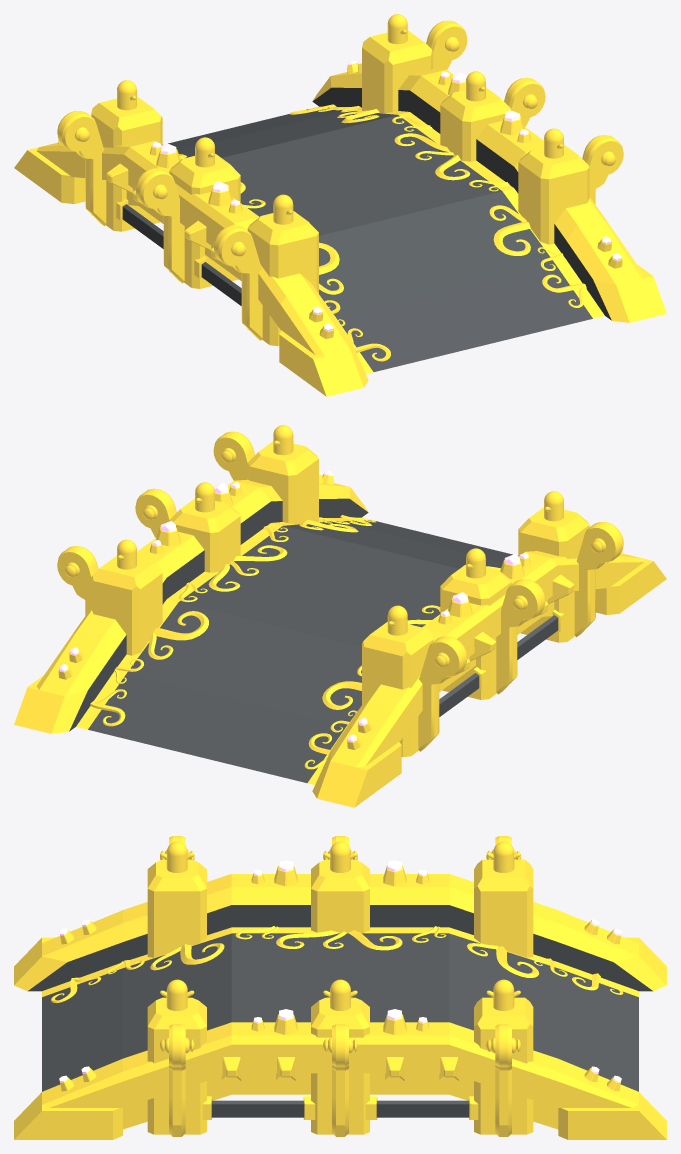
File: religious_bridge1.fbx
The picture shows the model from 3 angles, top to bottom: view 1: azimuth 30°, elevation 25°; view 2: azimuth 150°, elevation 25°; view 3: azimuth 270°, elevation 25°; orthographic projection. The views are drawn at different scales.
Parts seen in each view (by area): view 1: religious_bridge1, posts, staffs, swirls, gotchi_tops, gems, ridges, ribs; view 2: religious_bridge1, posts, staffs, swirls, gotchi_tops, gems, ridges, ribs; view 3: religious_bridge1, posts, staffs, ridges, gotchi_tops, gems, swirls, ribs.
Part boxes in pixels (<box>): religious_bridge1: <box>14,68,666,396</box>; posts: <box>91,30,589,346</box>; staffs: <box>57,20,623,340</box>; swirls: <box>179,104,586,361</box>; gotchi_tops: <box>117,14,563,224</box>; gems: <box>58,59,622,338</box>; ridges: <box>116,198,241,305</box>; ribs: <box>106,163,233,267</box>; religious_bridge1: <box>14,479,666,807</box>; posts: <box>91,441,589,757</box>; staffs: <box>57,431,623,751</box>; swirls: <box>90,515,500,769</box>; gotchi_tops: <box>117,425,563,635</box>; gems: <box>58,470,622,749</box>; ridges: <box>439,609,564,716</box>; ribs: <box>447,574,574,678</box>; religious_bridge1: <box>14,874,666,1139</box>; posts: <box>147,859,533,1134</box>; staffs: <box>160,836,520,1136</box>; ridges: <box>202,1096,478,1120</box>; gotchi_tops: <box>160,841,520,1010</box>; gems: <box>59,860,621,1091</box>; swirls: <box>51,926,623,1002</box>; ribs: <box>221,1057,459,1080</box>.
Size of the model in its own units: 7.27 by 2.36 by 9.71.
